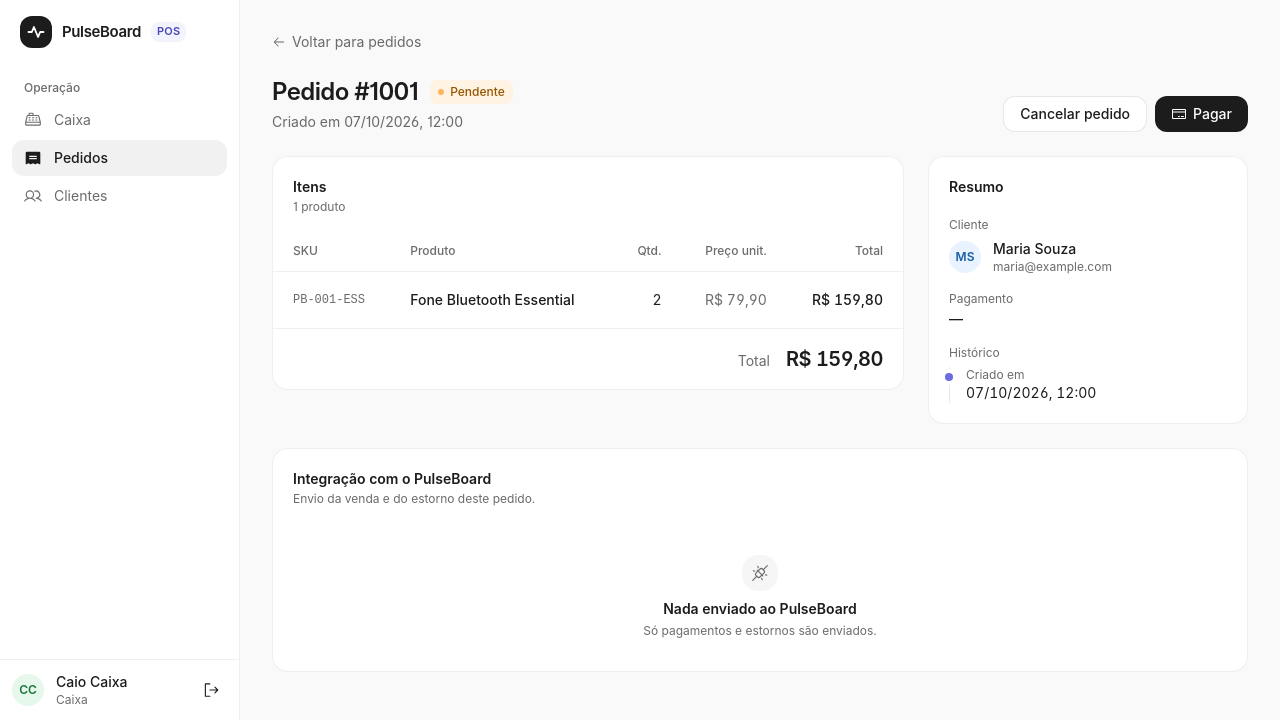
Test: orders › cancels a pending order
Click the button "Cancelar pedido".
click(1075, 114)  # box left=1003, top=96, right=1147, bottom=132
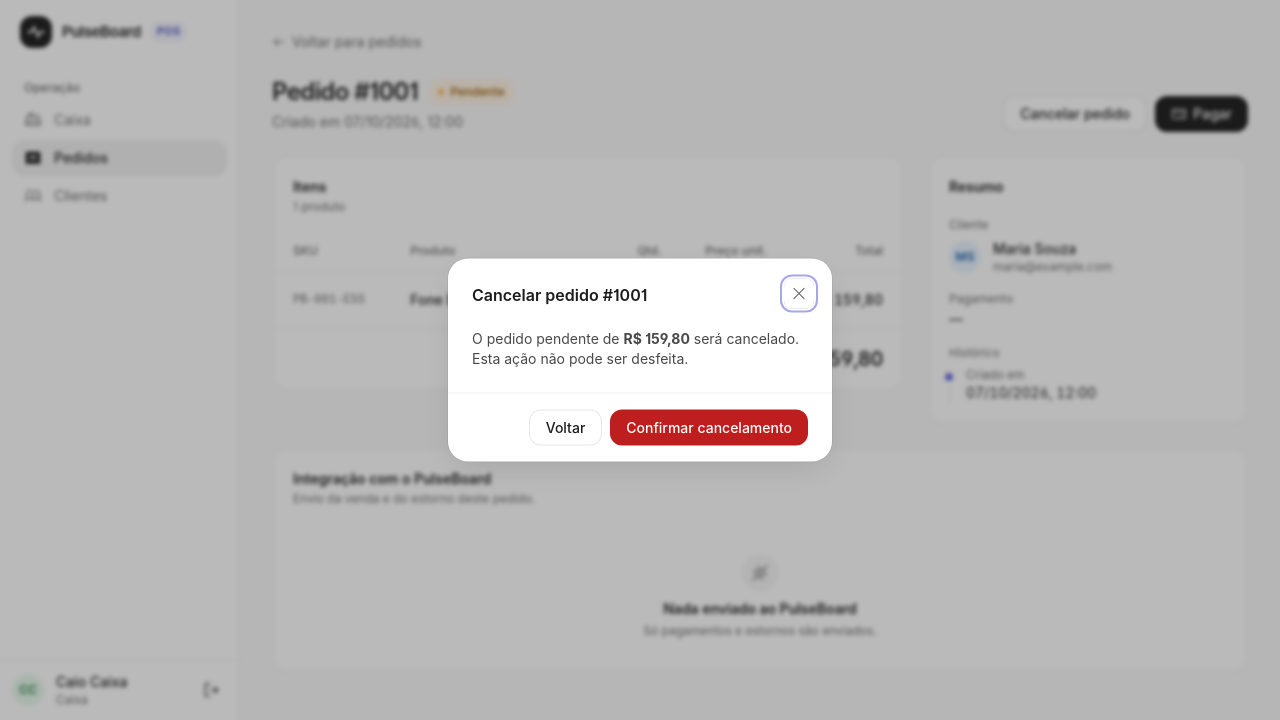
Click the button "Confirmar cancelamento".
click(709, 428)  # box left=610, top=410, right=808, bottom=446
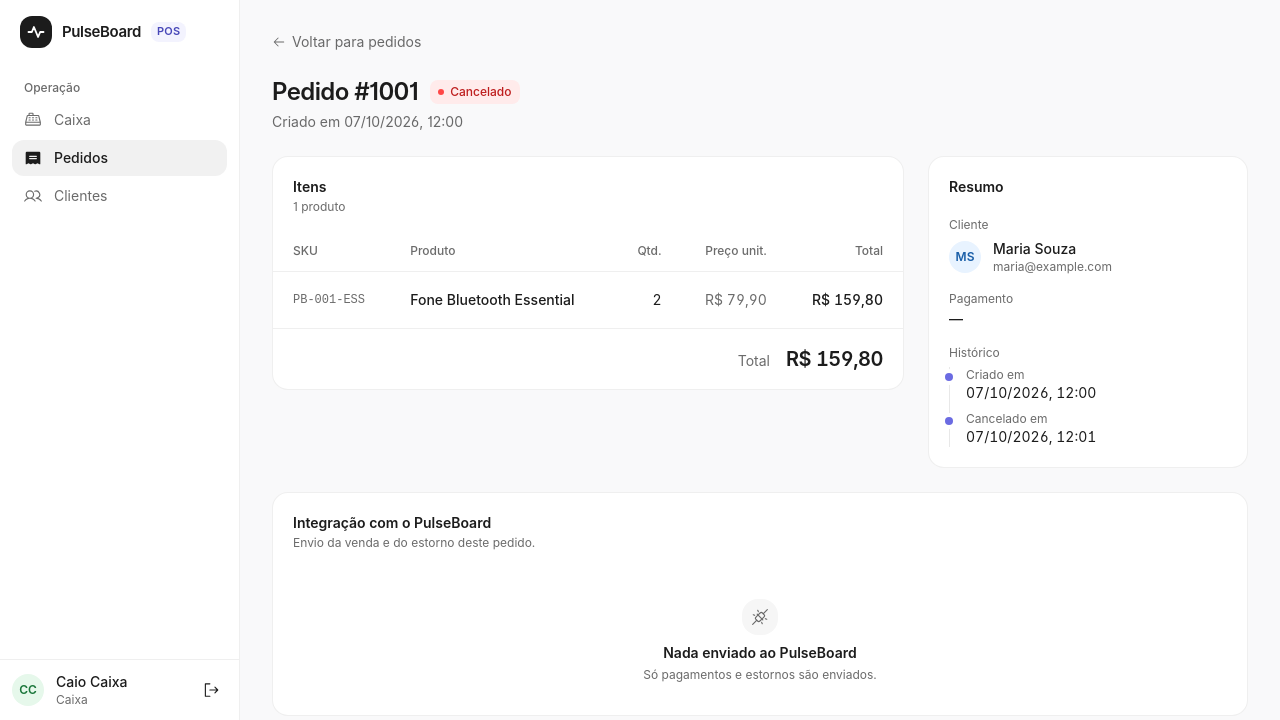
Expected: the text "Cancelado" is shown, left=430, top=80, right=520, bottom=104
